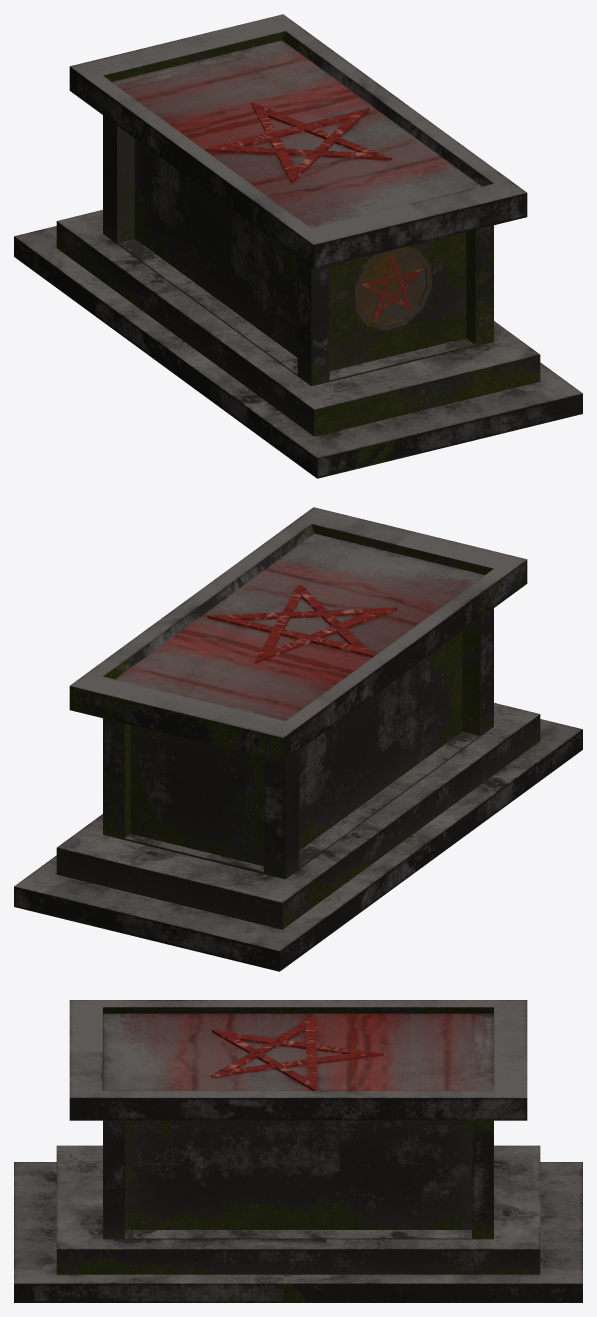
The model's file is tumba principal.fbx.
3 views of the same model, one above another, from view 1: azimuth 30°, elevation 25°; view 2: azimuth 150°, elevation 25°; view 3: azimuth 270°, elevation 25° (orthographic). The views are drawn at different scales.
Visible parts, largest first — view 1: Cube.079, Cube.013, Cube.012; view 2: Cube.079, Cube.012; view 3: Cube.079, Cube.012.
Boxes of the visible parts, x1=… form: Cube.079: x1=14, y1=14, x2=582, y2=478; Cube.013: x1=353, y1=246, x2=431, y2=330; Cube.012: x1=204, y1=102, x2=391, y2=183; Cube.079: x1=14, y1=507, x2=582, y2=971; Cube.012: x1=207, y1=583, x2=397, y2=663; Cube.079: x1=14, y1=1000, x2=582, y2=1302; Cube.012: x1=210, y1=1015, x2=383, y2=1090.
Bounding box in the file's own units: 104 × 77.05 × 206.
